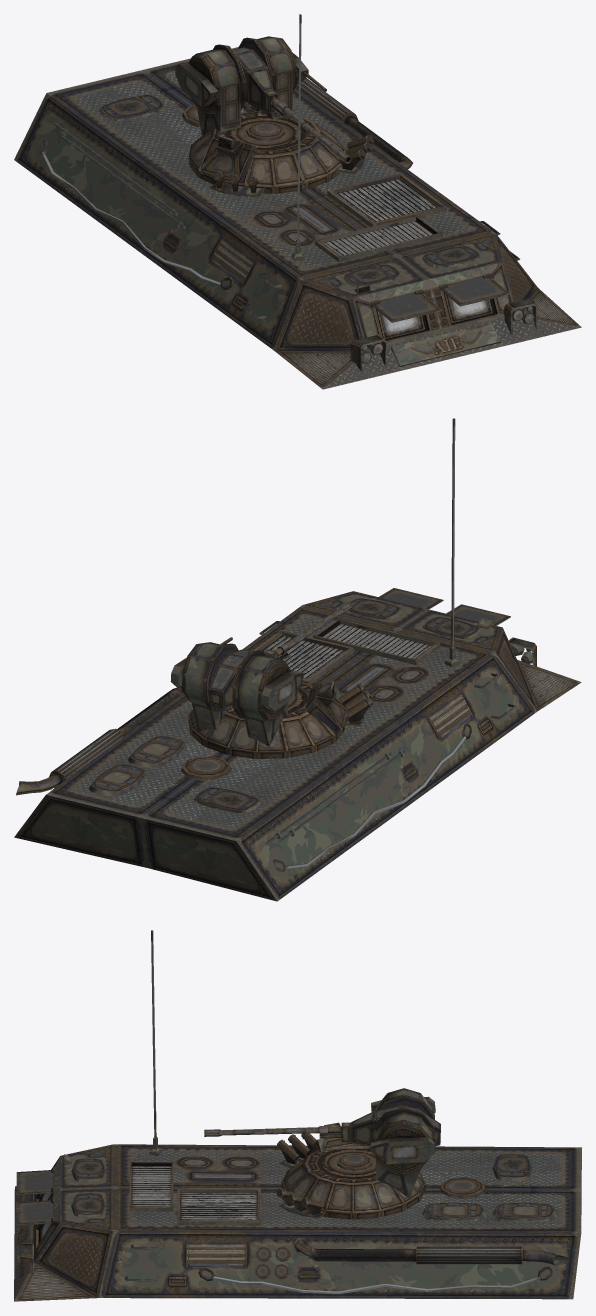
The model's file is infantry_turret.fbx.
The picture shows the model from 3 angles, top to bottom: view 1: azimuth 30°, elevation 25°; view 2: azimuth 150°, elevation 25°; view 3: azimuth 270°, elevation 25°; orthographic projection. The views are drawn at different scales.
Parts seen in each view (by area): view 1: polySurface12945, polySurface12946, polySurface12931; view 2: polySurface12945, polySurface12946, polySurface12931; view 3: polySurface12945, polySurface12946, polySurface12931.
Boxes of the visible parts, <box> form: polySurface12945: <box>14,14,581,389</box>; polySurface12946: <box>188,36,373,197</box>; polySurface12931: <box>175,47,351,163</box>; polySurface12945: <box>14,418,581,901</box>; polySurface12946: <box>182,642,372,758</box>; polySurface12931: <box>170,602,352,710</box>; polySurface12945: <box>14,930,581,1301</box>; polySurface12946: <box>276,1088,434,1219</box>; polySurface12931: <box>204,1096,440,1164</box>.
Size of the model in its own units: 117 by 126 by 232.
1 material, 1 textured.
